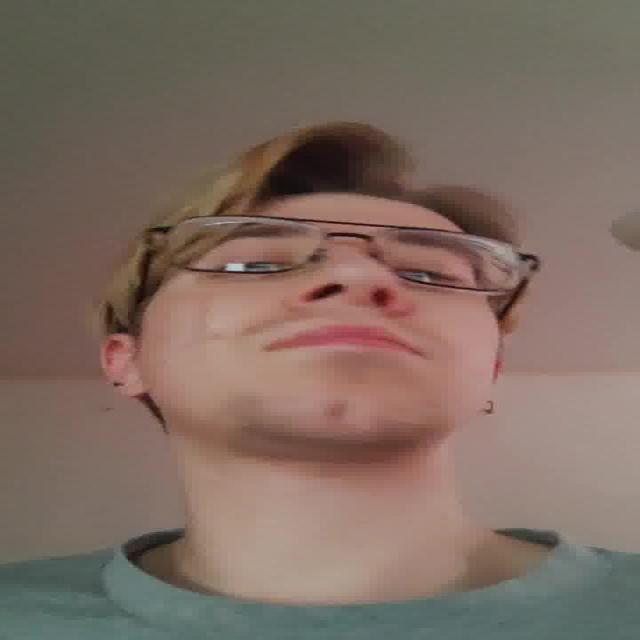earlobe: (96, 332, 152, 398)
